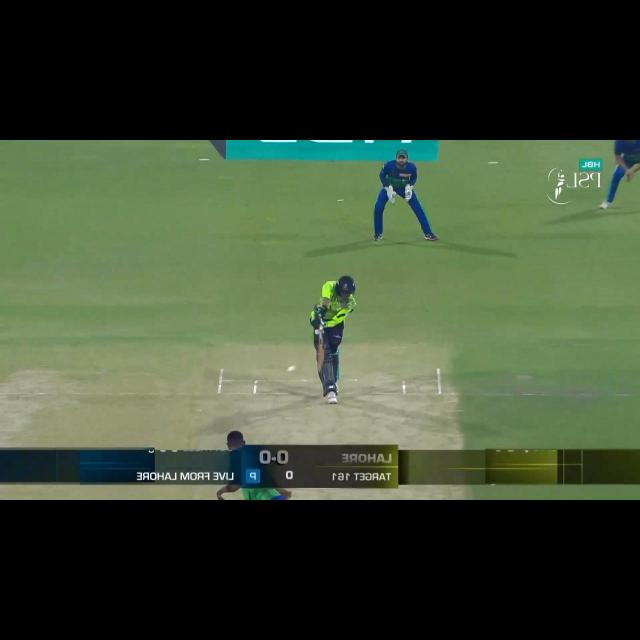bat: (317, 332, 325, 372)
toe: (316, 367, 323, 373)
